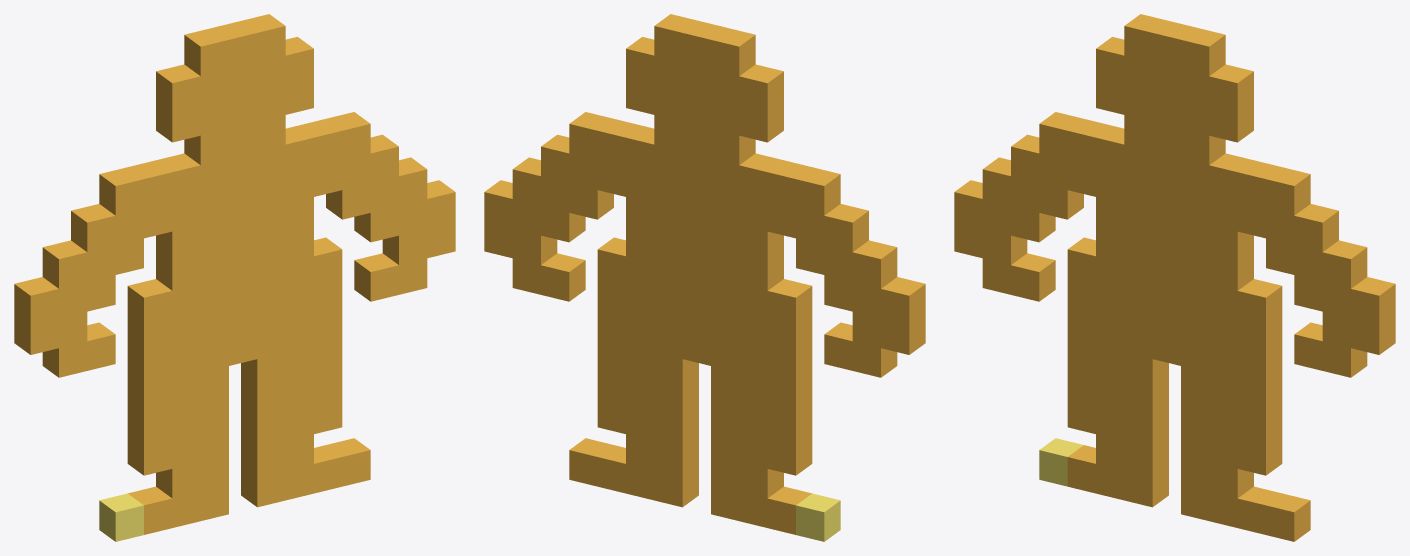
The model's file is Dwarf-Orange.vox.obj.
3 renders of one model, left to right at view 1: azimuth 30°, elevation 25°; view 2: azimuth 150°, elevation 25°; view 3: azimuth 330°, elevation 25°, orthographic.
Bounding box in the file's own units: 1.5 × 1.6 × 0.1.
1 material, 1 textured.
